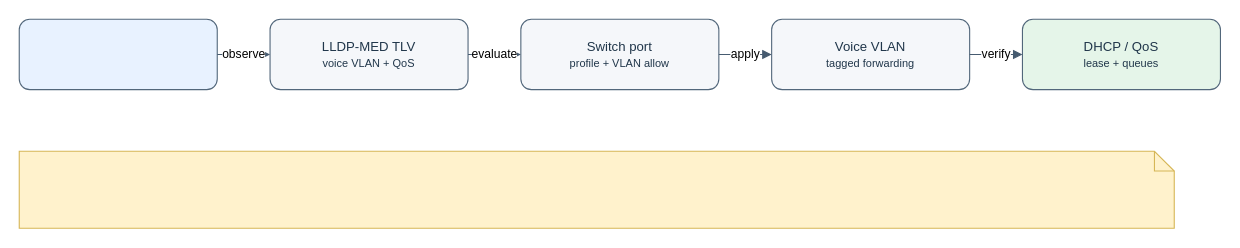
Image size: 1240x248. Some labels were removed from this diagram. The shapes that lost their labels are listed below. From the top down, each one's centre as x and y in pixels, then its label:
(117,54): Phone LLDP receive
(596,189): Advertised VLAN works only if endpoint accepts it and the VLAN is carried.
